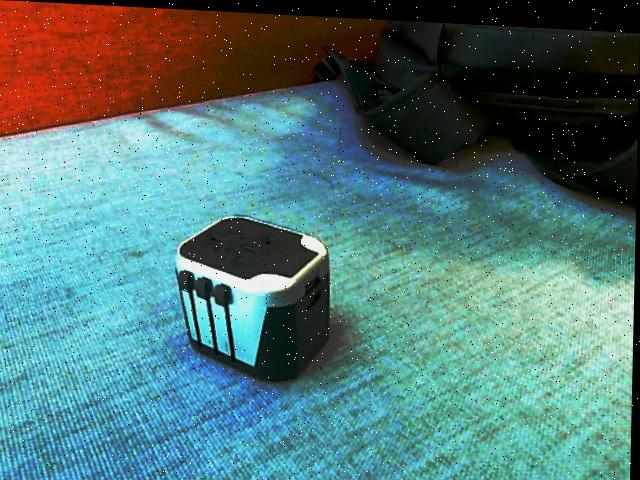adapter: (172, 209, 334, 382)
